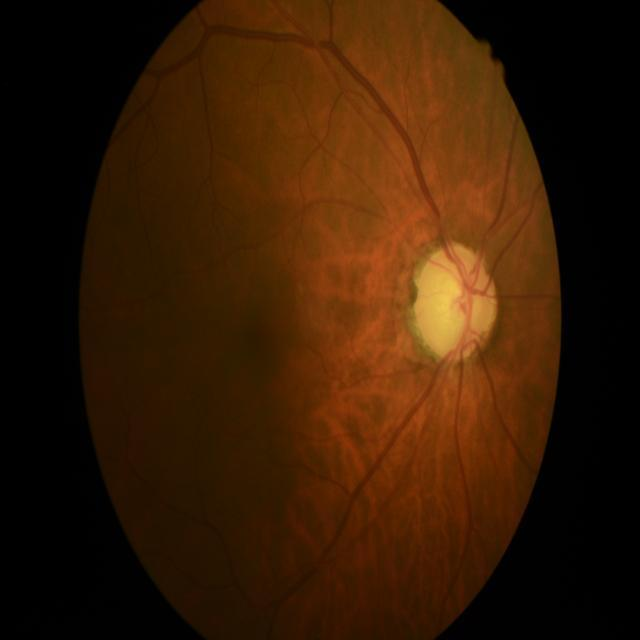cup: (422, 263, 482, 350)
disk: (416, 241, 500, 365)
